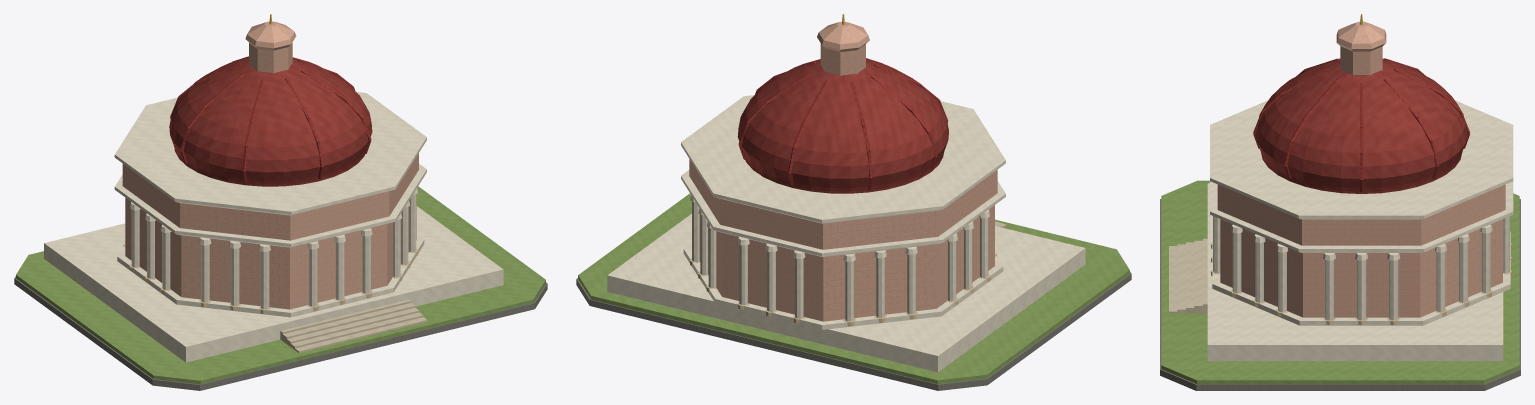
The model's file is gulangyu.glb.
3 renders of one model, left to right at view 1: azimuth 30°, elevation 25°; view 2: azimuth 150°, elevation 25°; view 3: azimuth 270°, elevation 25°, orthographic. The views are drawn at different scales.
Visible parts, largest first — view 1: 鼓浪屿; view 2: 鼓浪屿; view 3: 鼓浪屿.
Boxes of the visible parts, <box> form: 鼓浪屿: <box>14,14,547,390</box>; 鼓浪屿: <box>576,14,1131,390</box>; 鼓浪屿: <box>1160,14,1520,390</box>.
Size of the model in its own units: 10.8 by 6.93 by 8.2.
10 materials, 10 textured.
